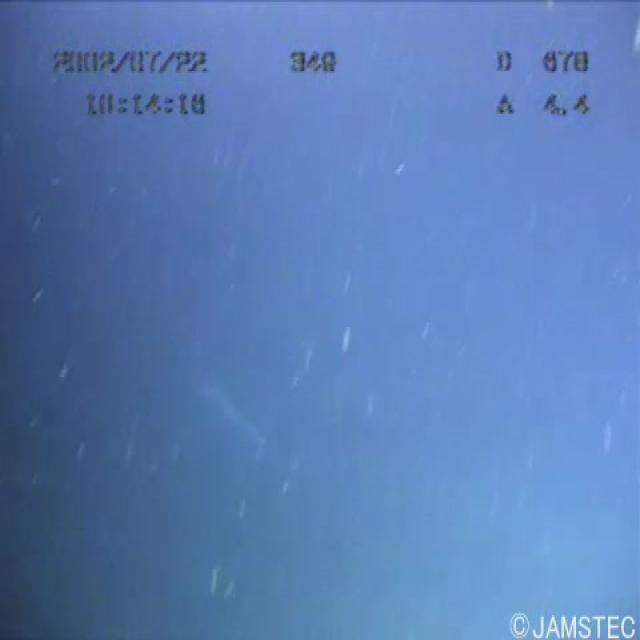plastic: (169, 353, 284, 468)
